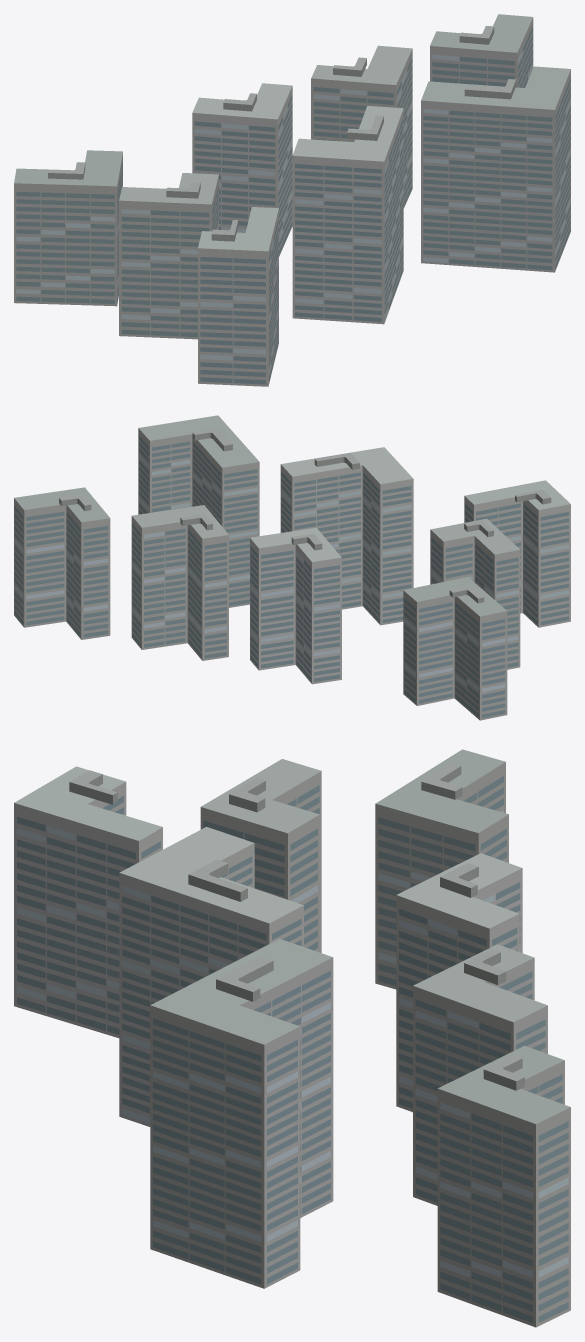
The model's file is apt-a10025283.glb.
The picture shows the model from 3 angles, top to bottom: view 1: azimuth 30°, elevation 25°; view 2: azimuth 150°, elevation 25°; view 3: azimuth 270°, elevation 25°; orthographic projection. The views are drawn at different scales.
Parts seen in each view (by area): view 1: apt-a10025283; view 2: apt-a10025283; view 3: apt-a10025283.
Part boxes in pixels (box(x1,y1,x2,y2)): apt-a10025283: box(14, 14, 570, 386); apt-a10025283: box(14, 415, 570, 720); apt-a10025283: box(14, 749, 570, 1327).
Size of the model in its own units: 209 by 62 by 123.
